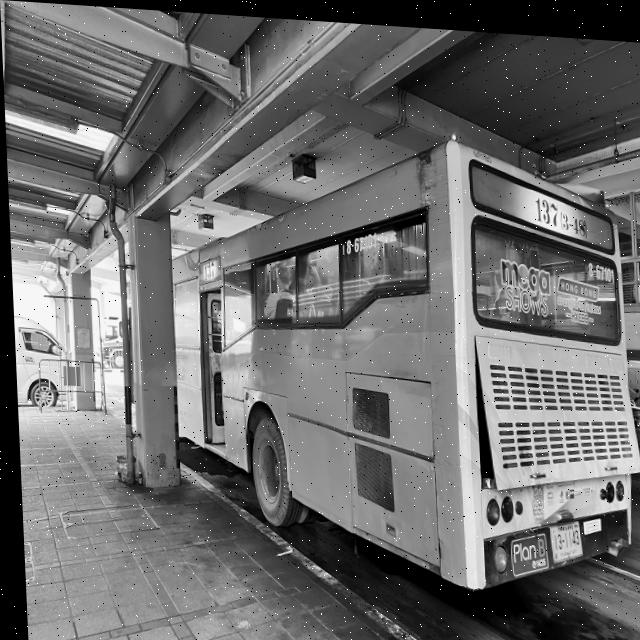BMTA-bus: (164, 117, 640, 596)
Bus-Line-Number: (529, 182, 589, 240)
